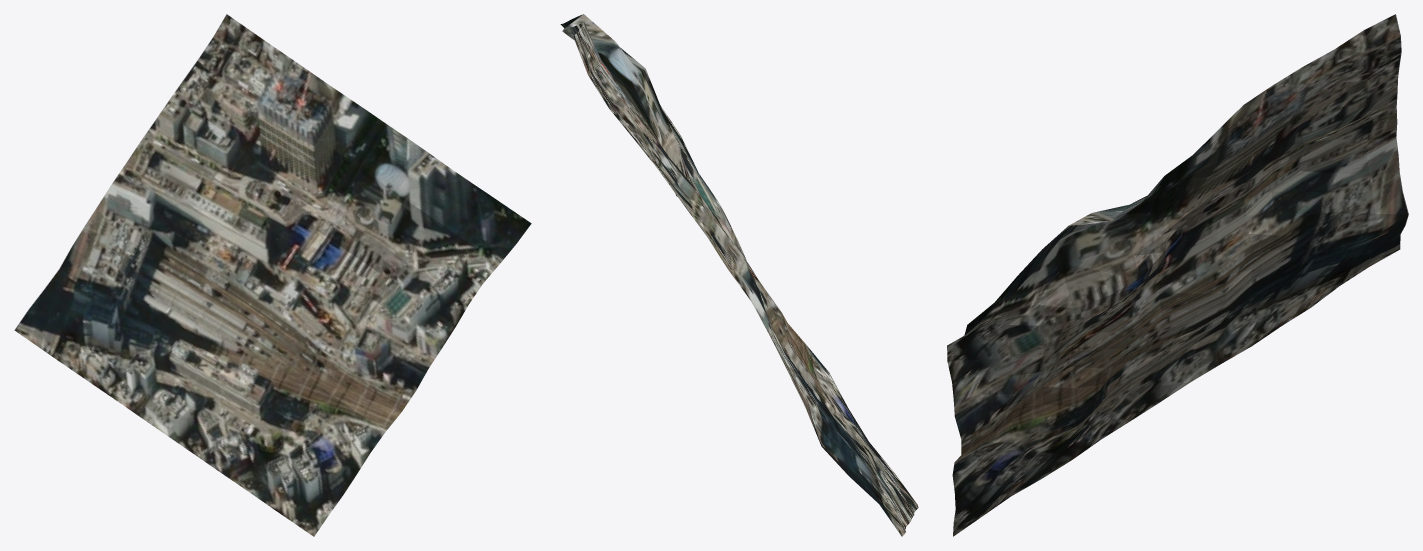
The picture shows the model from 3 angles, left to right: view 1: azimuth 30°, elevation 25°; view 2: azimuth 150°, elevation 25°; view 3: azimuth 270°, elevation 25°; orthographic projection. The views are drawn at different scales.
Size of the model in its own units: 553 by 568 by 417.
Materials: 1 (1 with a texture image).
